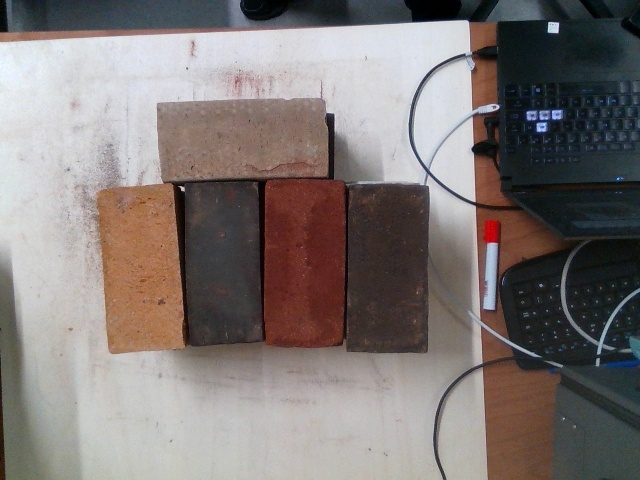brick: (94, 185, 185, 353), (347, 187, 428, 352), (157, 100, 325, 178), (264, 182, 342, 343), (186, 187, 260, 345)
